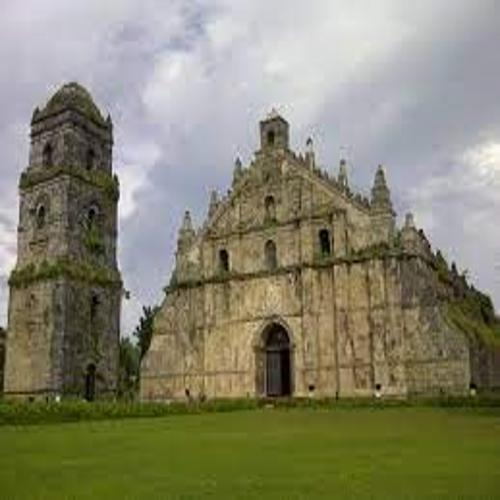Paoay Church: (7, 74, 487, 405)
